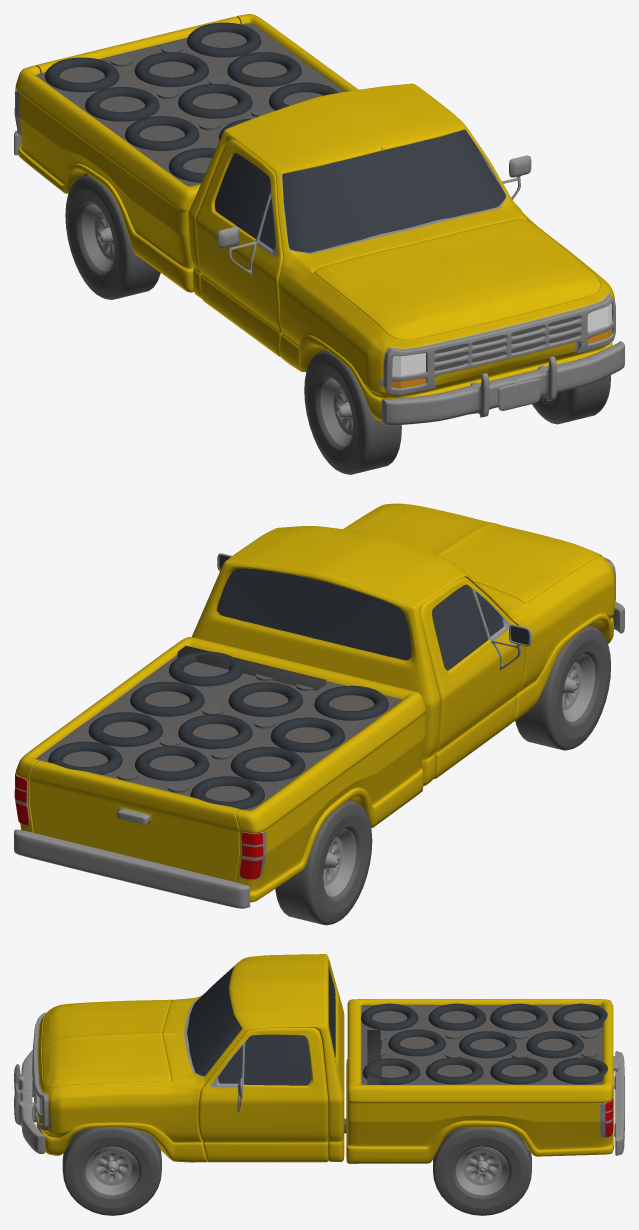
Rendered from Pick-UpCompleta.glb.
3 renders of one model, top to bottom at view 1: azimuth 30°, elevation 25°; view 2: azimuth 150°, elevation 25°; view 3: azimuth 270°, elevation 25°, orthographic. The views are drawn at different scales.
Visible parts, largest first — view 1: Cube, Plane, Cubo, Cube.002, Círculo.004, Círculo.007, Círculo.001, Círculo.006, Círculo.005, Torus.011, Torus.007, Torus.008 (+8 smaller); view 2: Cube, Cubo, Cube.002, Plane, Círculo.007, Círculo.004, Círculo.006, Círculo.005, Cube.001, Torus.008, Torus.005, Torus.003 (+8 smaller); view 3: Cube, Cubo, Cube.002, Plane, Círculo.001, Círculo.002, Círculo.003, Círculo, Torus.003, Torus.006, Torus.005, Torus.010 (+8 smaller).
Boxes of the visible parts, <box> form: Cube: <box>188,83,624,425</box>; Plane: <box>215,129,505,252</box>; Cubo: <box>14,14,358,292</box>; Cube.002: <box>36,23,344,186</box>; Círculo.004: <box>304,350,401,474</box>; Círculo.007: <box>65,175,160,299</box>; Círculo.001: <box>532,375,610,424</box>; Círculo.006: <box>81,203,114,271</box>; Círculo.005: <box>320,378,353,446</box>; Torus.011: <box>187,22,261,57</box>; Torus.007: <box>45,57,119,92</box>; Torus.008: <box>178,84,252,118</box>; Cube: <box>192,503,624,785</box>; Cubo: <box>14,637,425,908</box>; Cube.002: <box>36,655,402,810</box>; Plane: <box>217,555,528,670</box>; Círculo.007: <box>275,800,372,925</box>; Círculo.004: <box>515,625,610,750</box>; Círculo.006: <box>323,829,356,896</box>; Círculo.005: <box>562,654,595,722</box>; Cube.001: <box>177,645,325,691</box>; Torus.008: <box>178,714,252,749</box>; Torus.005: <box>270,717,344,752</box>; Torus.003: <box>228,682,302,716</box>; Cube: <box>14,954,344,1162</box>; Cubo: <box>346,999,624,1163</box>; Cube.002: <box>361,1004,602,1144</box>; Plane: <box>187,966,335,1085</box>; Círculo.001: <box>62,1127,161,1215</box>; Círculo.002: <box>433,1127,531,1215</box>; Círculo.003: <box>455,1146,509,1195</box>; Círculo: <box>85,1146,139,1195</box>; Torus.003: <box>388,1029,445,1056</box>; Torus.006: <box>490,1003,547,1030</box>; Torus.005: <box>428,1003,485,1030</box>; Torus.010: <box>490,1057,547,1084</box>.
Size of the model in its own units: 3.05 by 2.28 by 6.65.
